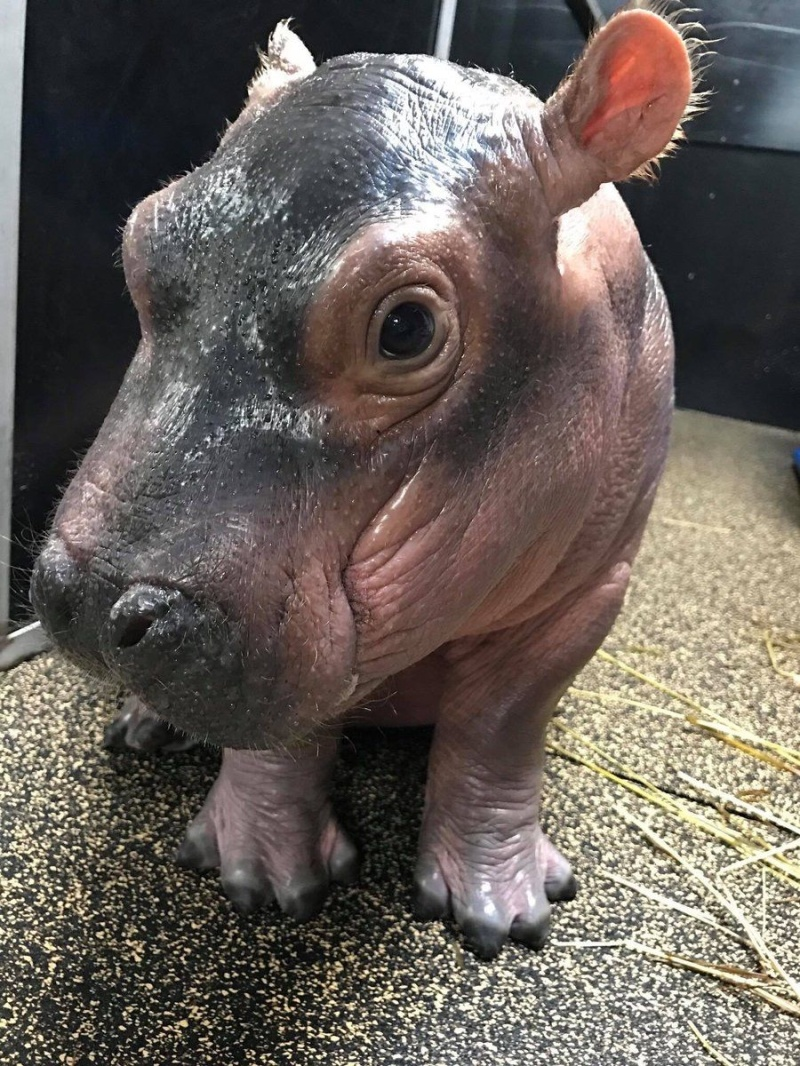hipopotamo: (31, 14, 722, 993)
